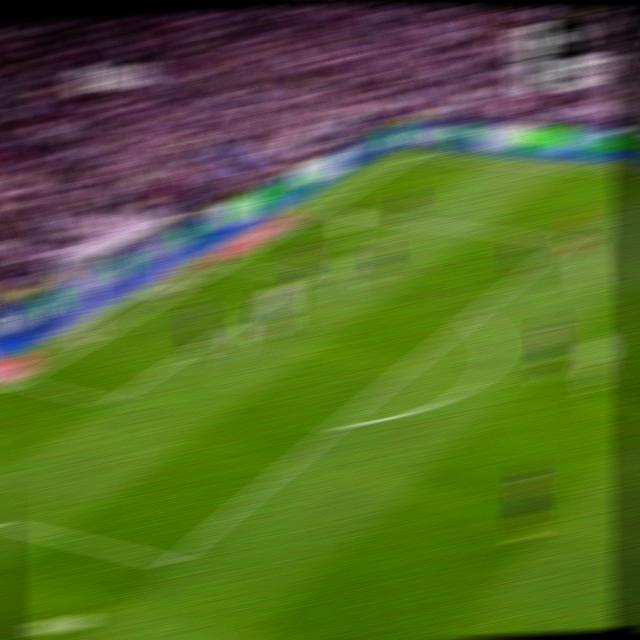bigarea_bottom_inner: (155, 545, 186, 578)
bigarea_top_inner: (553, 232, 577, 249)
bigarea_top_outter: (310, 201, 334, 215)
bottom_arc_area_intersection: (323, 413, 350, 435)
corner: (404, 149, 430, 159)
smallarea_bottom_inner: (99, 391, 124, 411)
top_arc_area_intersection: (459, 305, 484, 323)
